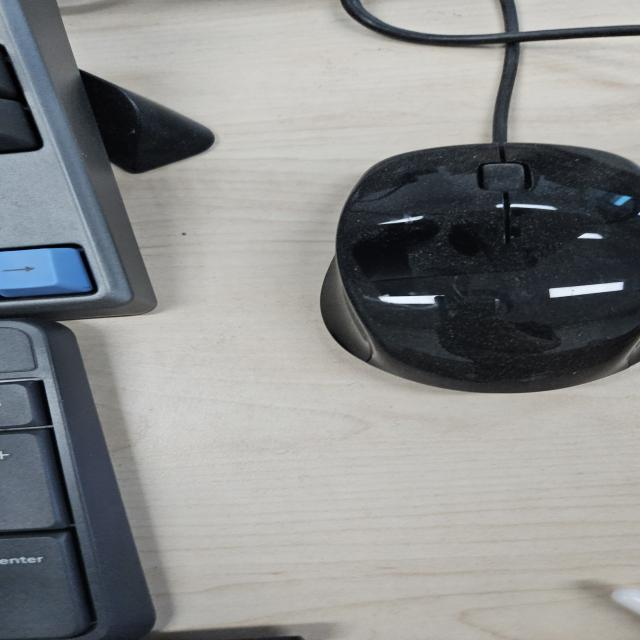Mouse: (317, 140, 637, 394)
